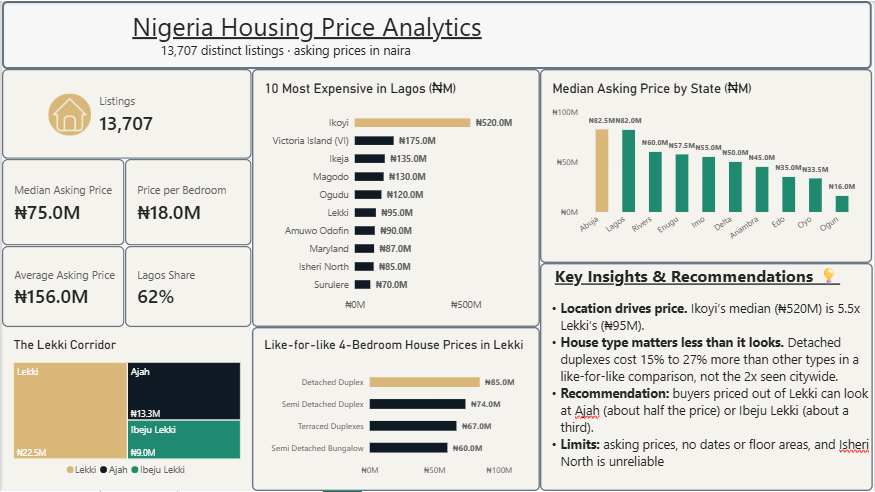

This screenshot's page, from the dashboard's own definition file:
{"tool":"powerbi","page":{"name":"Page 1","canvas":[1280,720],"ordinal":0},"visuals":[{"type":"cardVisual","fields":{"Data":["houses_distinct.Listings"]},"box":[0,99.9,367.3,132.2],"z":0},{"type":"cardVisual","fields":{"Data":["houses_distinct.Median Price (M)"]},"box":[0,232.2,180.7,127.8],"z":1000},{"type":"cardVisual","fields":{"Data":["houses_distinct.Median per Bedroom (M)"]},"box":[180.7,232.2,186.6,127.8],"z":2000},{"type":"cardVisual","fields":{"Data":["houses_distinct.Lagos Share"]},"box":[180.7,360,186.6,119],"z":3000},{"type":"clusteredBarChart","title":"10 Most Expensive in Lagos (₦M)","fields":{"Category":["houses_distinct.town"],"Y":["houses_distinct.Reliable Median (M)"]},"box":[367.3,99.9,423.2,379.1],"z":4000},{"type":"clusteredBarChart","title":"Like-for-like 4-Bedroom House Prices in Lekki ","fields":{"Category":["houses_distinct.house_type"],"Y":["houses_distinct.Reliable Median (M)"]},"box":[367.3,479,423.2,241],"z":6000},{"type":"textbox","box":[790.5,385,489.3,335],"z":7000},{"type":"columnChart","title":"Median Asking Price by State (₦M)","fields":{"Category":["houses_distinct.state"],"Y":["houses_distinct.Reliable Median (M)"]},"box":[790.5,99.9,487.8,285.1],"z":8000},{"type":"textbox","box":[0,0,1278.4,99.9],"z":9000},{"type":"cardVisual","fields":{"Data":["houses_distinct.Average Price (M)"]},"box":[0,360,180.7,119],"z":10000},{"type":"treemap","title":"The Lekki Corridor","fields":{"Group":["houses_distinct.town"],"Values":["houses_distinct.Reliable per Bedroom (M)"]},"box":[0,479,367.3,241],"z":10001}]}

Visuals, with their boxes in screenshot pixels (x1, y1, x2, y2), scaled from the page's 1280x720 canvas onto the 875x492 screenshot:
cardVisual - houses_distinct.Listings: detection(0, 68, 251, 159)
cardVisual - houses_distinct.Median Price (M): detection(0, 159, 124, 246)
cardVisual - houses_distinct.Median per Bedroom (M): detection(124, 159, 251, 246)
cardVisual - houses_distinct.Lagos Share: detection(124, 246, 251, 327)
"10 Most Expensive in Lagos (₦M)" clusteredBarChart: detection(251, 68, 540, 327)
"Like-for-like 4-Bedroom House Prices in Lekki " clusteredBarChart: detection(251, 327, 540, 491)
textbox: detection(540, 263, 874, 491)
"Median Asking Price by State (₦M)" columnChart: detection(540, 68, 874, 263)
textbox: detection(0, 0, 874, 68)
cardVisual - houses_distinct.Average Price (M): detection(0, 246, 124, 327)
"The Lekki Corridor" treemap: detection(0, 327, 251, 491)
